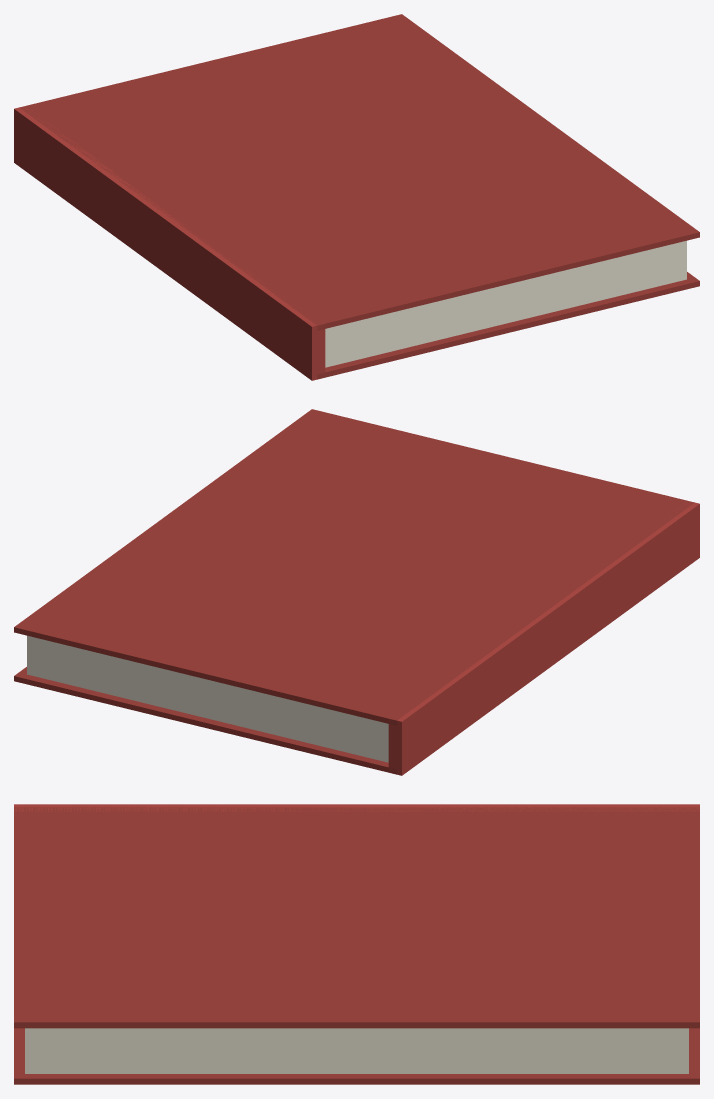
Rendered from diary.glb.
3 renders of one model, top to bottom at view 1: azimuth 30°, elevation 25°; view 2: azimuth 150°, elevation 25°; view 3: azimuth 270°, elevation 25°, orthographic. The views are drawn at different scales.
Parts seen in each view (by area): view 1: diary; view 2: diary; view 3: diary.
Boxes of the visible parts, left/top/right/bottom form: diary: left=14, top=14, right=699, bottom=380; diary: left=14, top=409, right=699, bottom=775; diary: left=14, top=804, right=699, bottom=1084.
Bounding box in the file's own units: 0.233 × 0.031 × 0.31.
